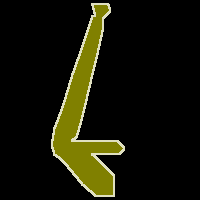tie: (52, 4, 124, 196)
